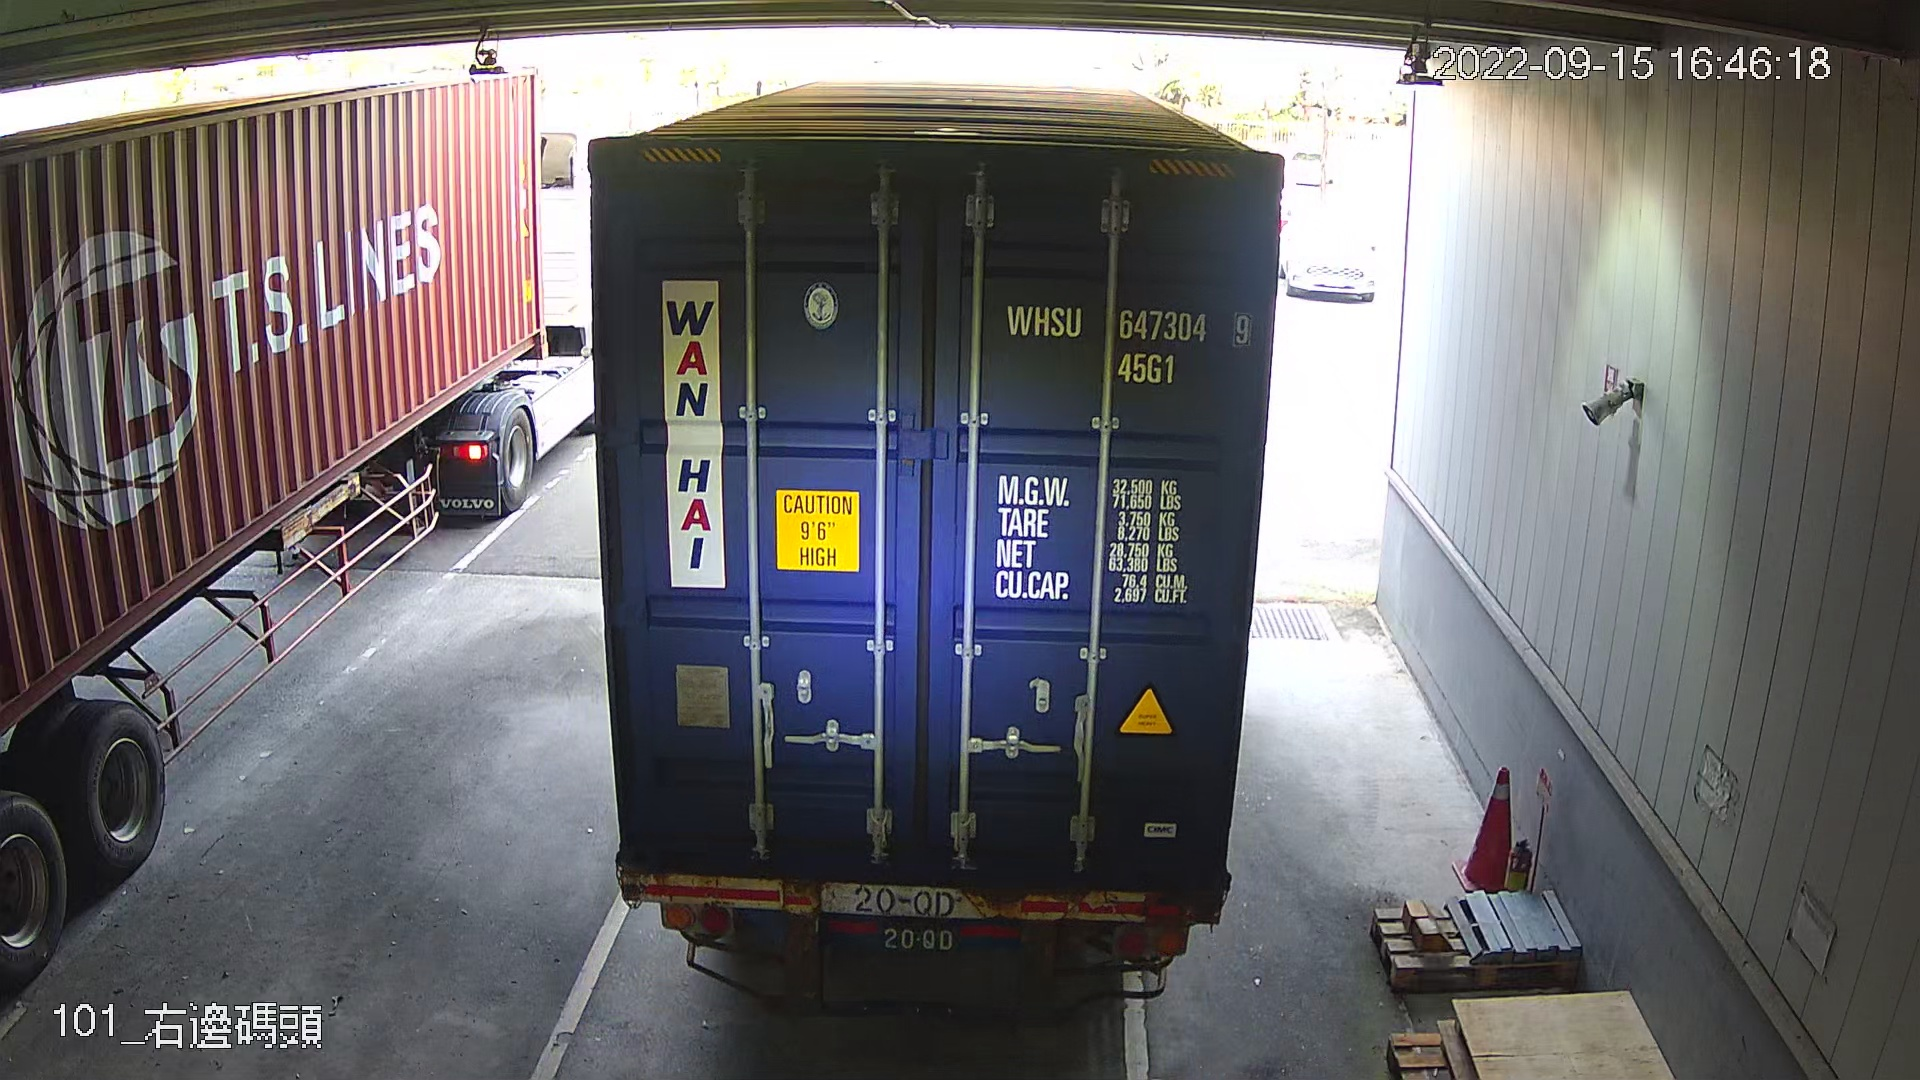container: (998, 295, 1259, 396)
